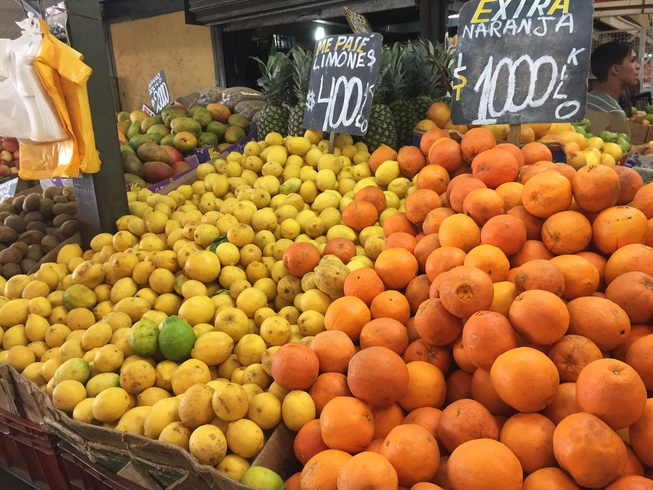precio: (448, 1, 599, 120), (305, 34, 387, 143), (144, 67, 175, 115)
